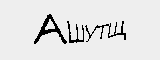А: (32, 12, 66, 45)
Т: (96, 22, 108, 40)
У: (83, 23, 96, 44)
Ш: (67, 19, 83, 45)
Щ: (106, 20, 129, 42)
